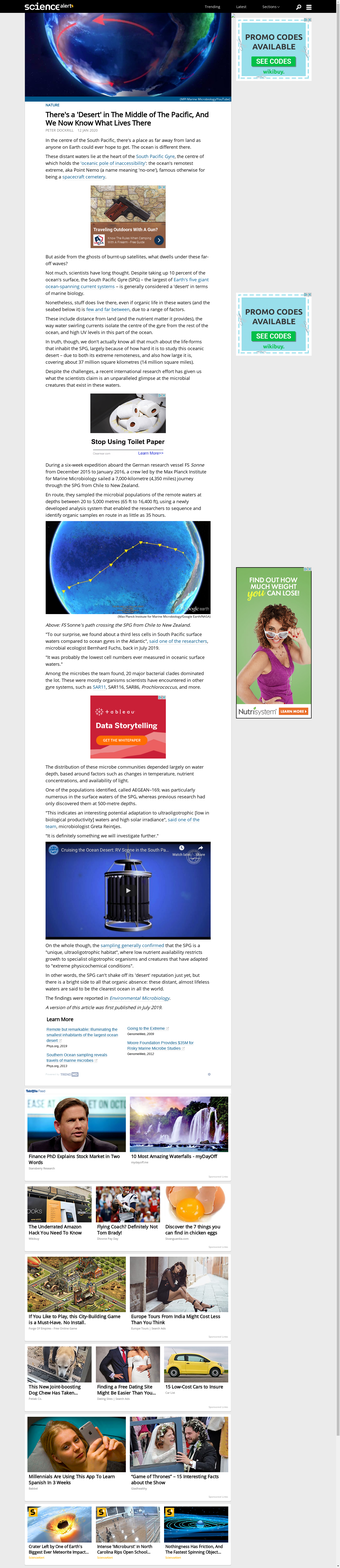fake_button: (235, 568, 312, 719), (26, 1417, 126, 1494), (28, 1095, 127, 1171), (130, 1417, 231, 1490), (129, 1095, 229, 1168), (28, 1257, 126, 1331), (129, 1257, 229, 1329), (91, 185, 168, 250), (236, 293, 314, 355), (238, 20, 310, 80), (27, 1505, 95, 1561), (164, 1506, 232, 1562), (95, 1186, 161, 1243), (26, 1346, 93, 1402), (164, 1345, 231, 1400), (96, 1346, 161, 1402), (26, 1185, 94, 1238), (96, 1506, 161, 1559), (166, 1187, 227, 1241), (89, 393, 166, 435), (97, 736, 148, 745)
